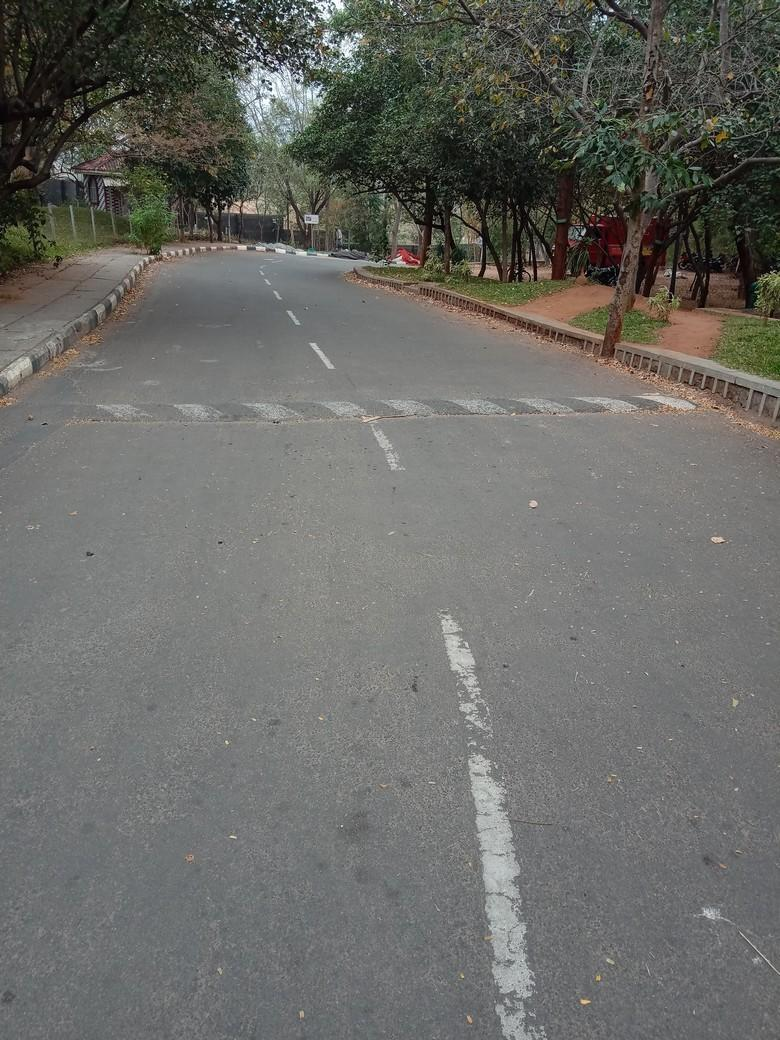speedbreaker: (9, 388, 704, 426)
